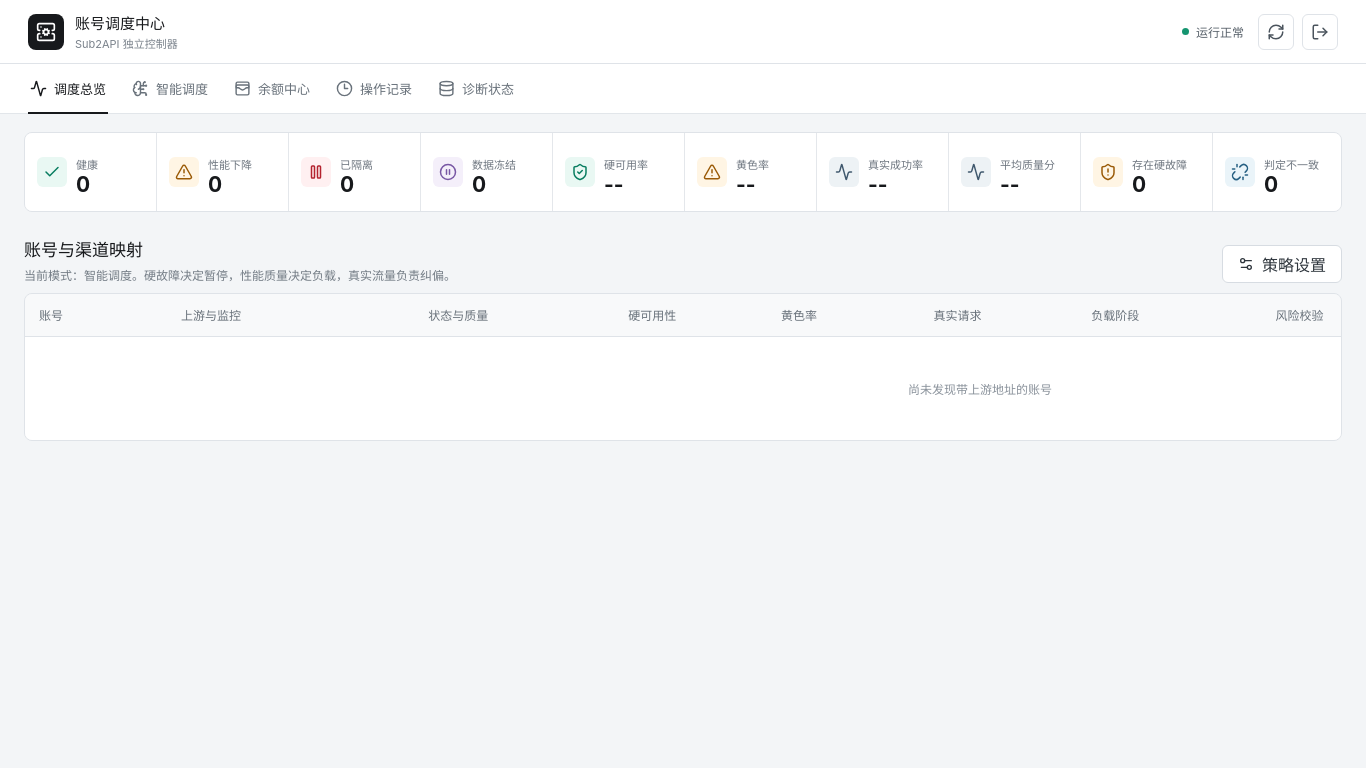
Scenario: App › distinguishes decision, proposed, actual, failed and blocked audit records
The width and height of the screenshot is (1366, 768).
Click the button "操作记录" at coordinates (374, 89), box [334,64,414,114]
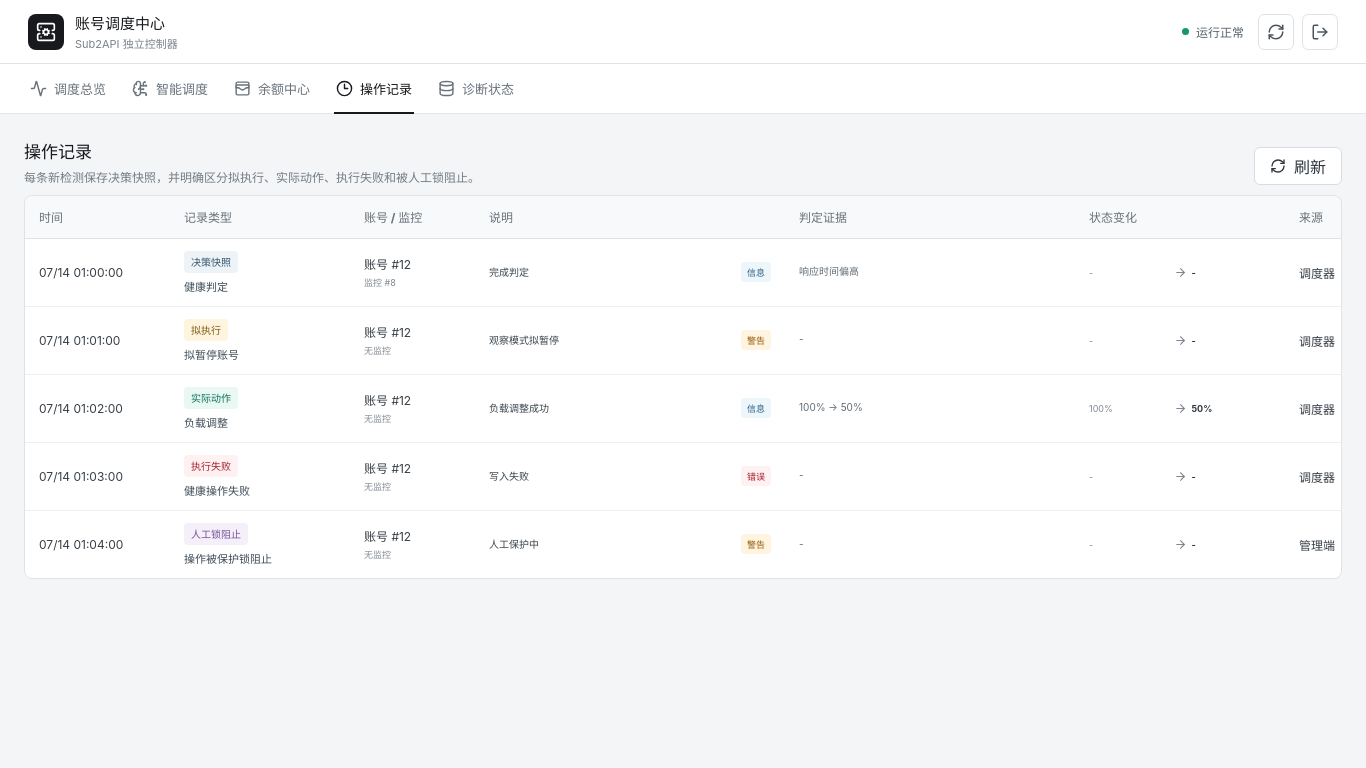
Check: the text "决策快照" is shown, box [24,170,480,185]
Check: the text "拟执行" is shown, box [24,168,480,185]
Check: the text "实际动作" is shown, box [24,170,480,185]
